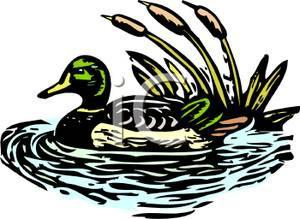bird: (37, 49, 248, 152)
